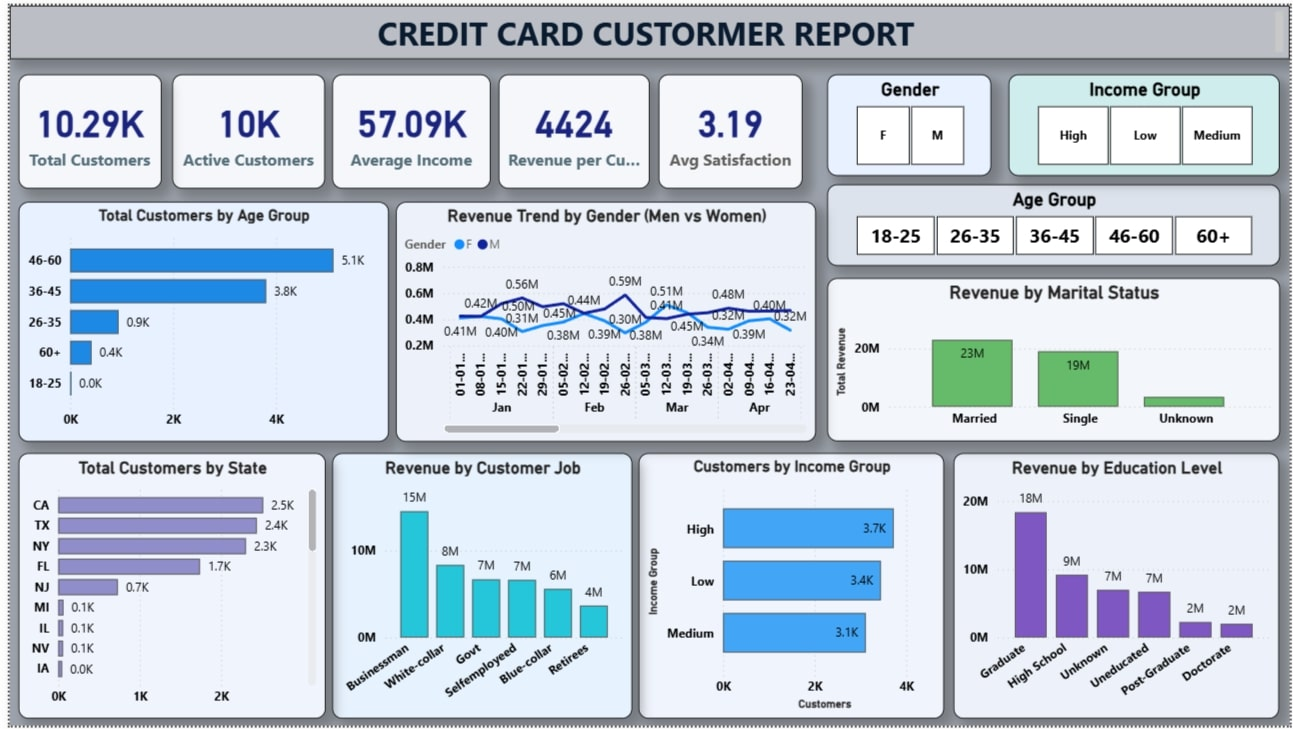

The dashboard page shown, as its layout file describes it:
{"tool":"powerbi","page":{"name":"Credit Card Customer","canvas":[1280,720],"ordinal":0},"visuals":[{"type":"textbox","box":[0,0,1280,53.5],"z":0},{"type":"card","fields":{"Values":["CreditCard.Active Customers"]},"box":[203.9,68.8,155.8,118.2],"z":1000},{"type":"card","fields":{"Values":["CountNonNull(customer.CustomerID)"]},"box":[9.1,68.8,184.4,118.2],"z":2000},{"type":"card","fields":{"Values":["Avg(customer.Income)"]},"box":[368.6,68.6,190,118.6],"z":3000},{"type":"card","fields":{"Values":["customer.Revenue per customer"]},"box":[567.1,68.6,181.4,118.6],"z":4000},{"type":"slicer","title":"Gender","fields":{"Values":["customer.Gender"]},"box":[761,68.8,205.2,83.1],"z":5000},{"type":"slicer","title":"Age Group","fields":{"Values":["customer.Age_Group"]},"box":[761,162.3,509.1,97.4],"z":6000},{"type":"slicer","title":"Income Group","fields":{"Values":["customer.Income_Group"]},"box":[975.3,68.8,294.8,83.1],"z":7000},{"type":"clusteredBarChart","title":"Customers by Income Group","fields":{"Y":["CountNonNull(customer.CustomerID)"],"Category":["customer.Income_Group"]},"box":[388.6,197.1,360,240],"z":8000},{"type":"clusteredBarChart","title":"Total Customers by Age Group","fields":{"Y":["CountNonNull(customer.CustomerID)"],"Category":["customer.Age_Group"]},"box":[8.6,197.1,370,240],"z":9000},{"type":"columnChart","title":"Revenue by Education Level","fields":{"Category":["customer.Education_Level"],"Y":["CreditCard.Total Revenue"]},"box":[826.2,447.5,443.8,266.2],"z":10000},{"type":"clusteredColumnChart","title":"Revenue by Customer Job","fields":{"Category":["customer.Customer_Job"],"Y":["CreditCard.Total Revenue"]},"box":[428.8,447.5,387.5,267.5],"z":11000},{"type":"columnChart","title":"Revenue by Marital Status","fields":{"Category":["customer.Marital_Status"],"Y":["CreditCard.Total Revenue"]},"box":[761,272.7,509.1,163.6],"z":12000},{"type":"clusteredBarChart","title":"Total Customers by State","fields":{"Category":["customer.state_cd"],"Y":["CountNonNull(customer.CustomerID)"]},"box":[8.8,447.5,406.2,267.5],"z":13000}]}

Visuals, with their boxes in screenshot pixels (x1, y1, x2, y2), scaled from the page's 1280x720 canvas onto the 1293x729 screenshot:
textbox: 0/0/1292/54
card - CreditCard.Active Customers: 206/70/363/189
card - CountNonNull(customer.CustomerID): 9/70/195/189
card - Avg(customer.Income): 372/69/564/190
card - customer.Revenue per customer: 573/69/756/190
"Gender" slicer: 769/70/976/154
"Age Group" slicer: 769/164/1283/263
"Income Group" slicer: 985/70/1283/154
"Customers by Income Group" clusteredBarChart: 393/200/756/443
"Total Customers by Age Group" clusteredBarChart: 9/200/382/443
"Revenue by Education Level" columnChart: 835/453/1283/723
"Revenue by Customer Job" clusteredColumnChart: 433/453/825/724
"Revenue by Marital Status" columnChart: 769/276/1283/442
"Total Customers by State" clusteredBarChart: 9/453/419/724
